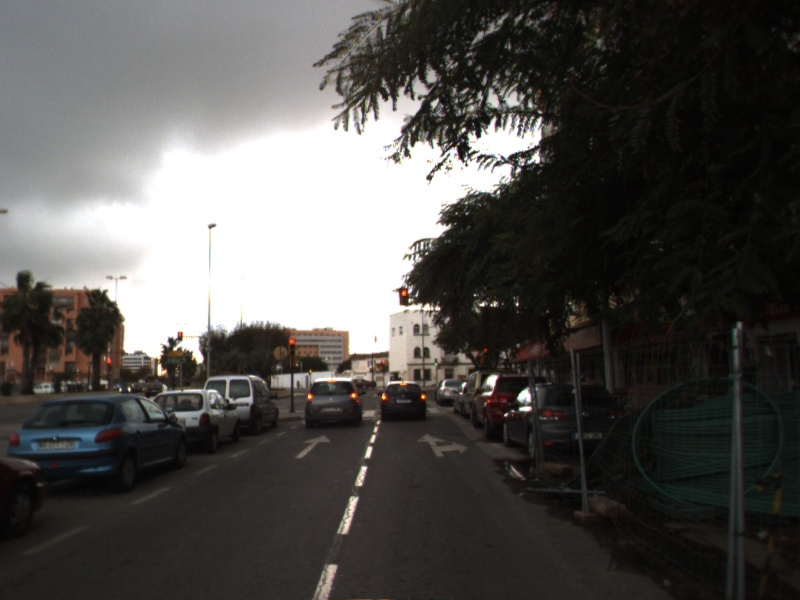STRAIGHT: (293, 434, 332, 460)
STRAIGHT_RIGHT: (416, 432, 469, 458)
